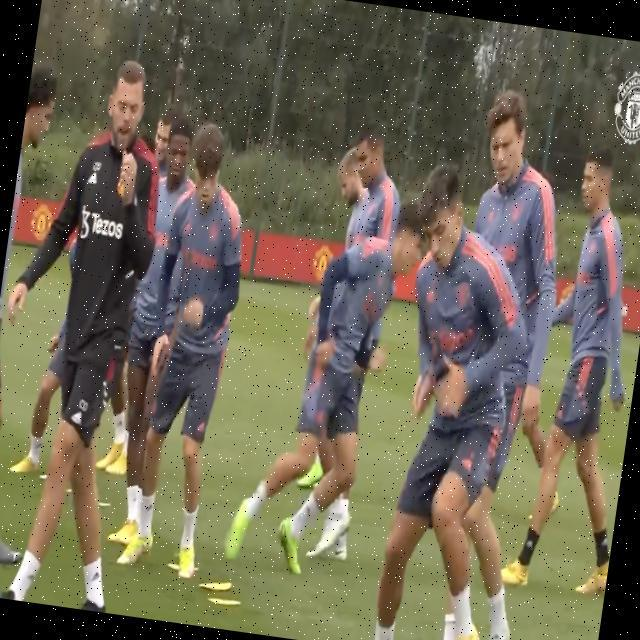Adidas: (70, 407, 85, 427), (89, 567, 102, 586), (86, 170, 99, 187)
